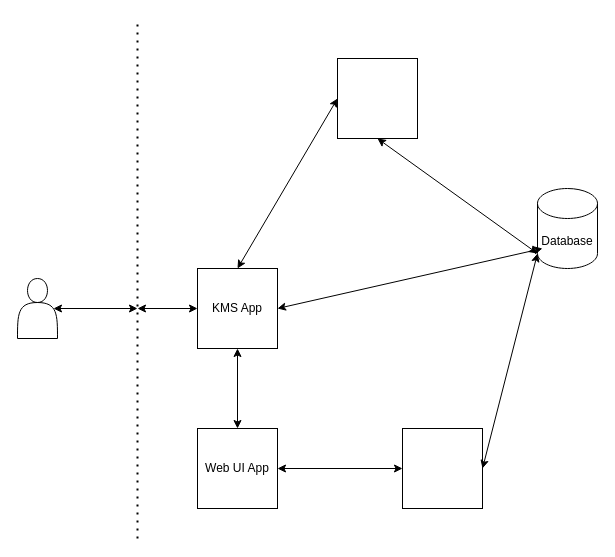
Image size: 615x557. Some labels were removed from this diagram. The shapes that lost their labels are listed below. From the top down, each one's box as (x1, y1, x2, y2) in pixels, then its label:
(336, 58, 418, 138): Authentication Server
(402, 428, 482, 508): Web UI CMS
